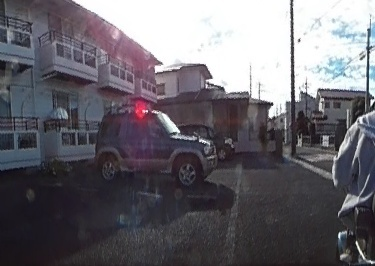person: (336, 44, 375, 234)
